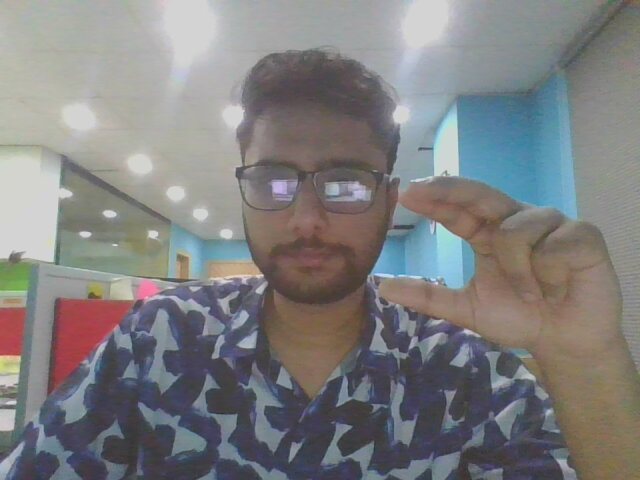no: (376, 164, 634, 366)
